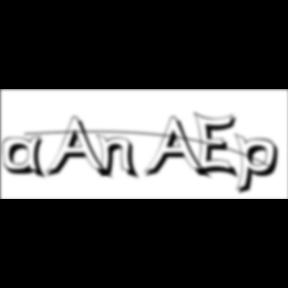A: (46, 116, 115, 182), (144, 116, 212, 182)
E: (194, 110, 242, 182)
a: (3, 135, 51, 182)
n: (97, 132, 144, 181)
p: (235, 132, 285, 198)
